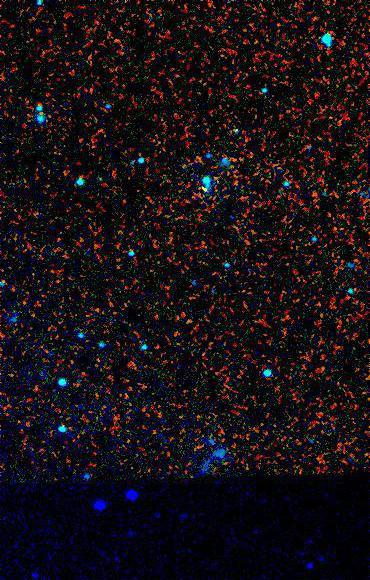star: (193, 176, 223, 206)
